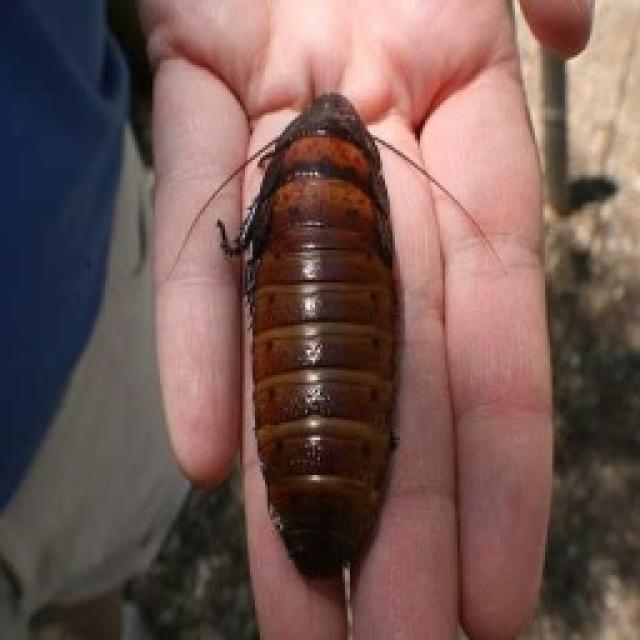cockroach: (162, 88, 510, 582)
